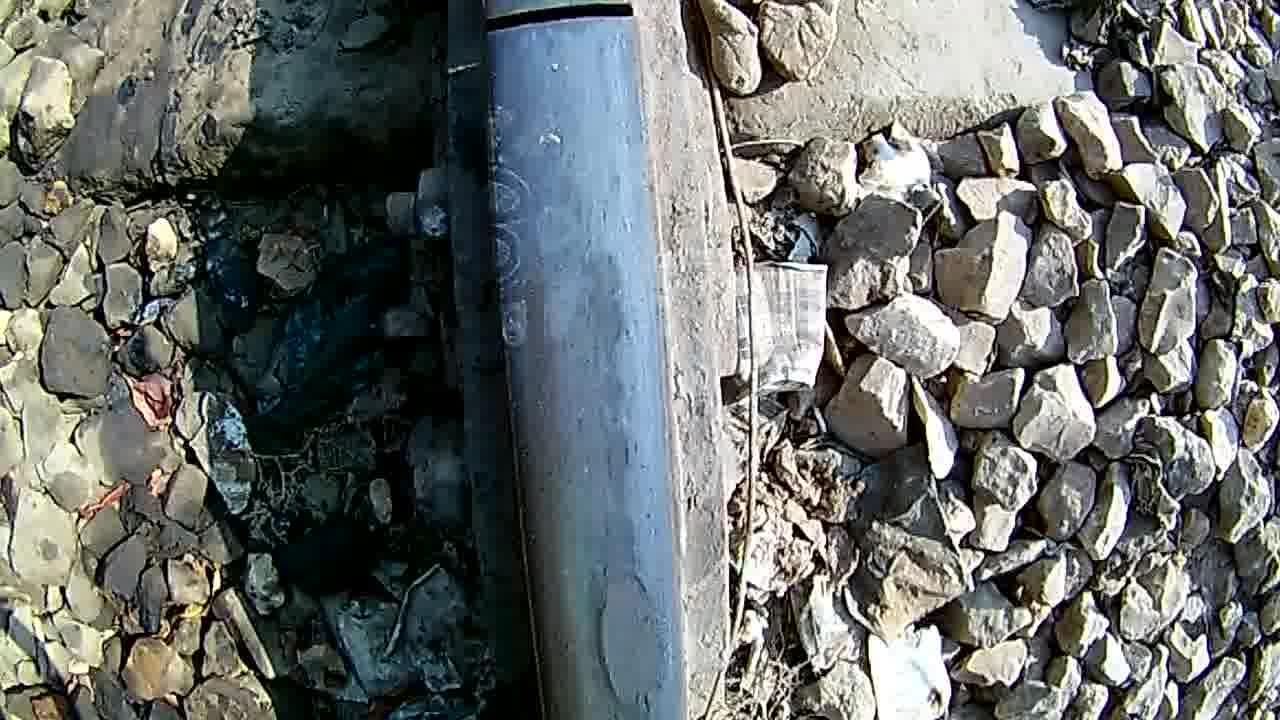bolt_missing: (522, 122, 680, 474), (505, 471, 702, 720)
